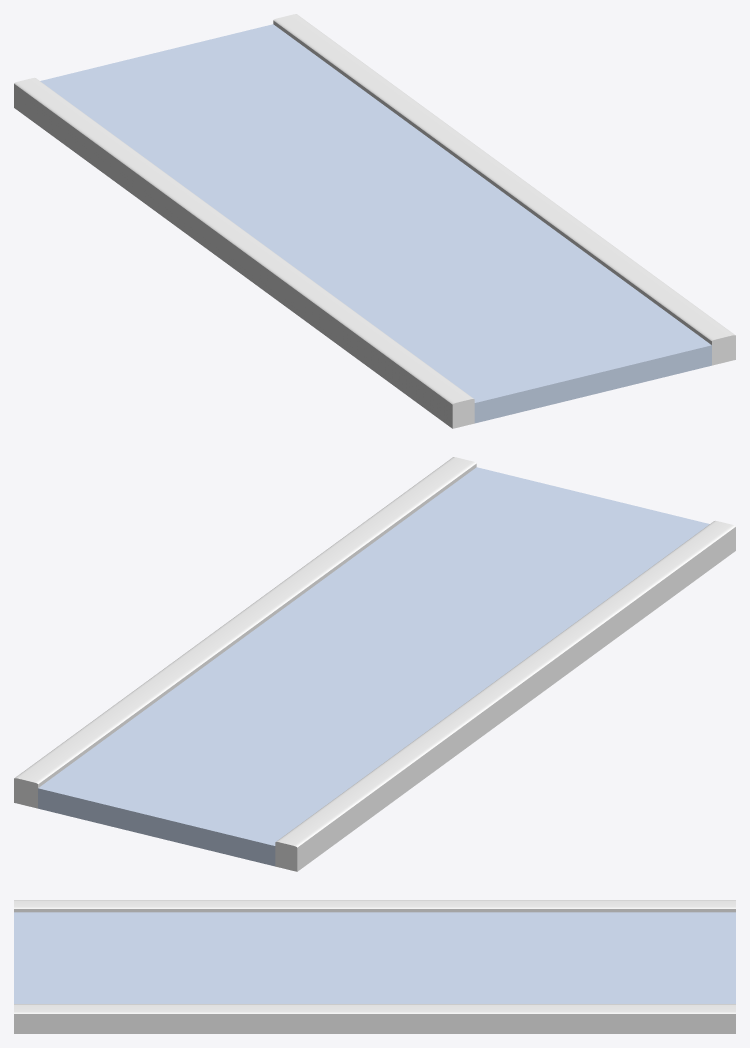
The model's file is ground.fbx.
The picture shows the model from 3 angles, top to bottom: view 1: azimuth 30°, elevation 25°; view 2: azimuth 150°, elevation 25°; view 3: azimuth 270°, elevation 25°; orthographic projection. The views are drawn at different scales.
Parts seen in each view (by area): view 1: ground; view 2: ground; view 3: ground.
Boxes of the visible parts, x1=… form: ground: x1=14, y1=14, x2=735, y2=428; ground: x1=14, y1=457, x2=735, y2=871; ground: x1=14, y1=900, x2=735, y2=1033.
Bounding box in the file's own units: 780 × 66.37 × 2093.
